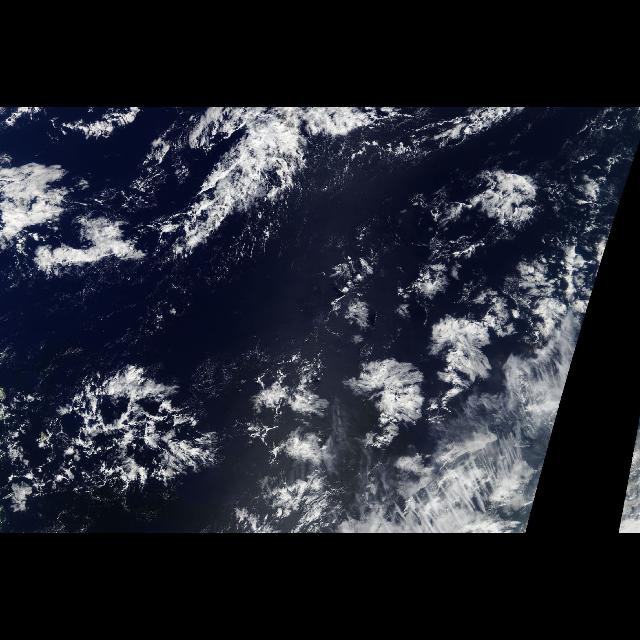Fish: (31, 109, 316, 532)
Flower: (254, 162, 544, 470)
